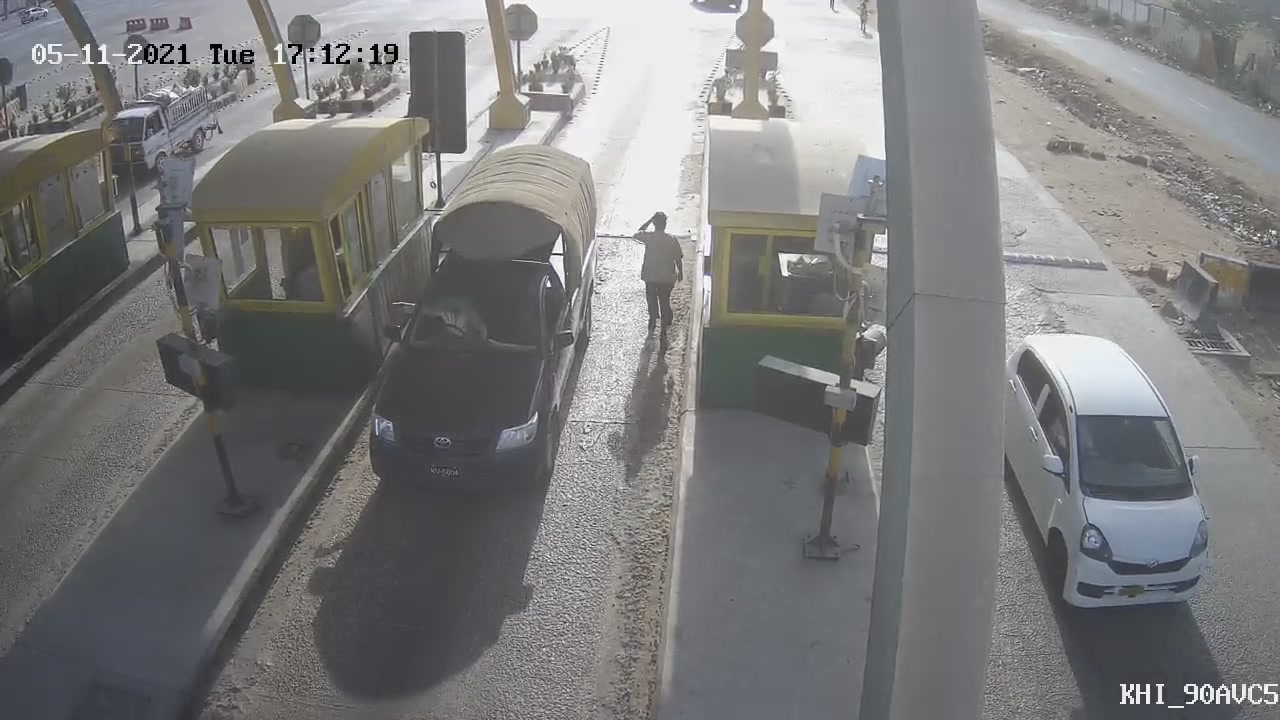F1: (352, 124, 620, 513)
